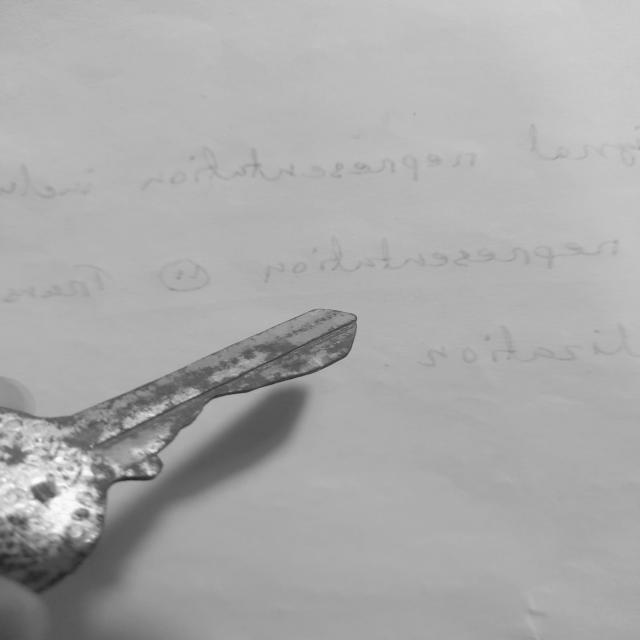KEY: (0, 309, 356, 593)
